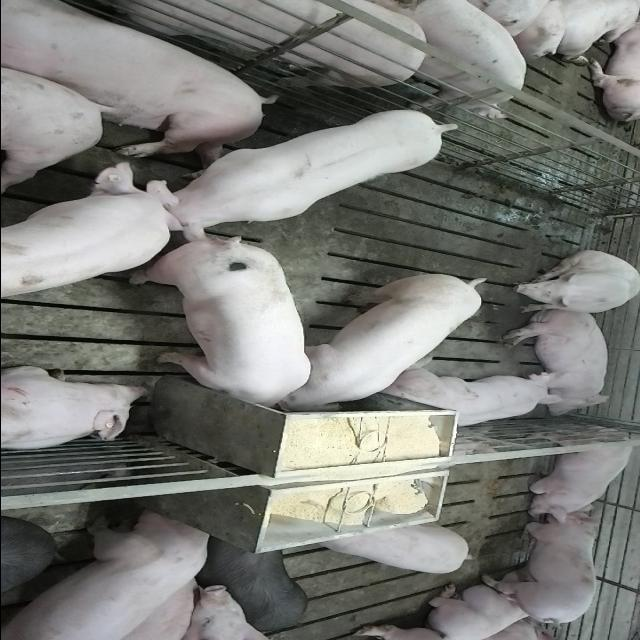Feeding: (126, 243, 310, 419), (278, 269, 494, 411)
Lateral_lying: (0, 4, 274, 158), (500, 308, 612, 418)
Sitting: (516, 425, 640, 521), (503, 251, 638, 315)
Standing: (131, 108, 457, 244), (21, 0, 436, 89), (4, 508, 218, 638), (0, 165, 173, 302), (383, 0, 533, 116), (194, 538, 310, 632), (317, 524, 477, 578)
Sternal_lying: (486, 515, 608, 626), (0, 366, 151, 453), (377, 362, 562, 432), (428, 576, 556, 638)
